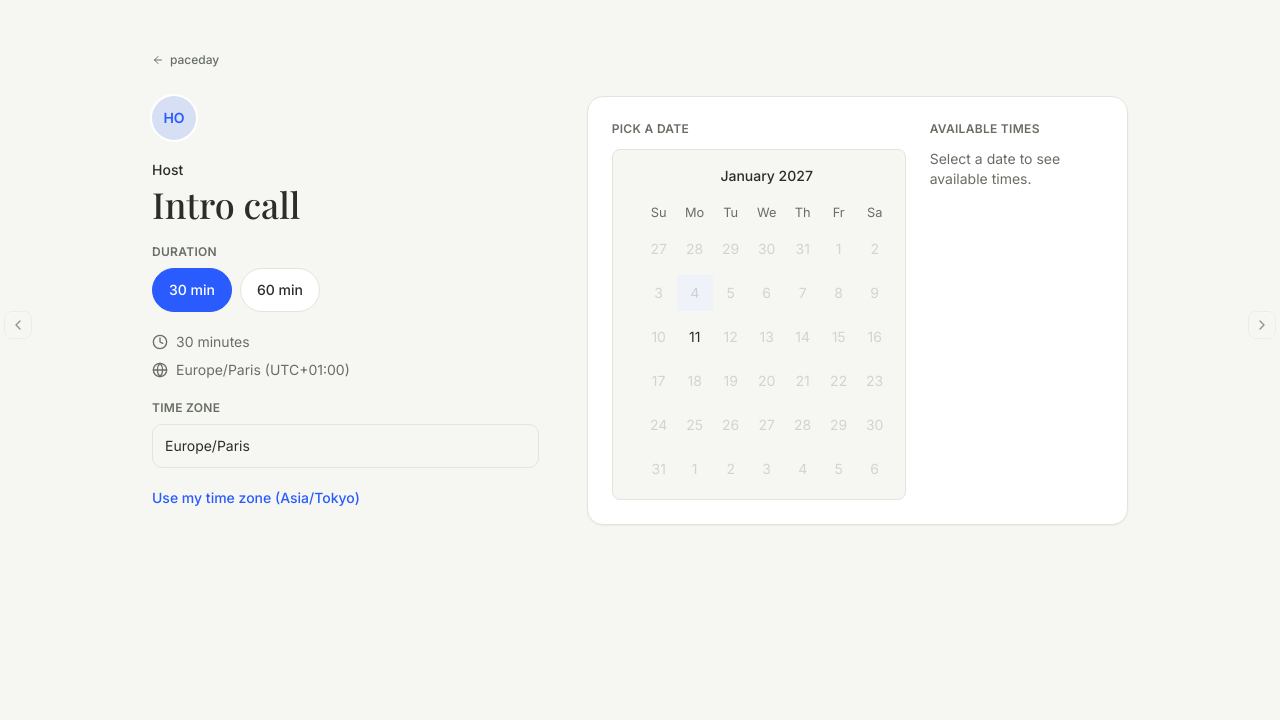
Scenario: PAC-88 default zone › AC-1: a Paris link in a Tokyo browser shows Europe/Paris with the day's offset and Paris times; every request sends display_time_zone
Expected: the button with test id "booking-tz-use-mine" reads "Use my time zone (Asia/Tokyo)", left=152, top=476, right=360, bottom=520
Click the button "11": (695, 337) left=677, top=319, right=713, bottom=355
(page scrolled)
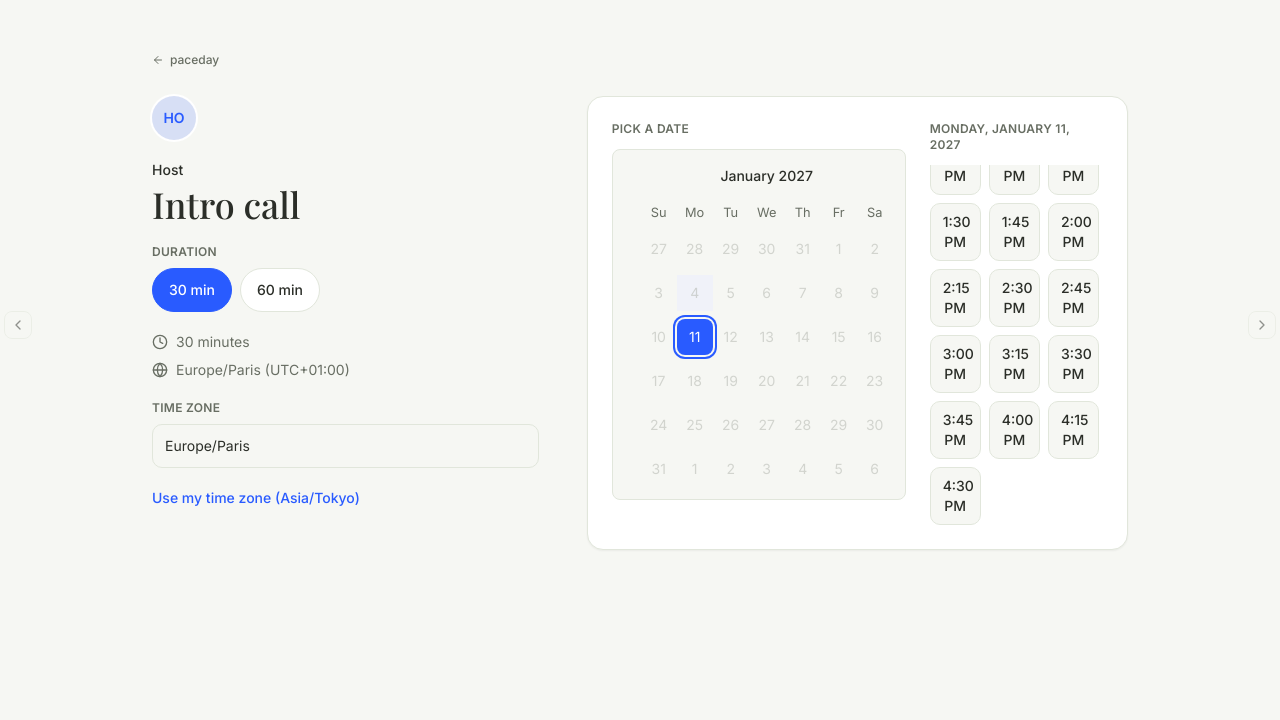
Expected: the button labelled "4:30 PM" is shown, left=930, top=467, right=981, bottom=525
